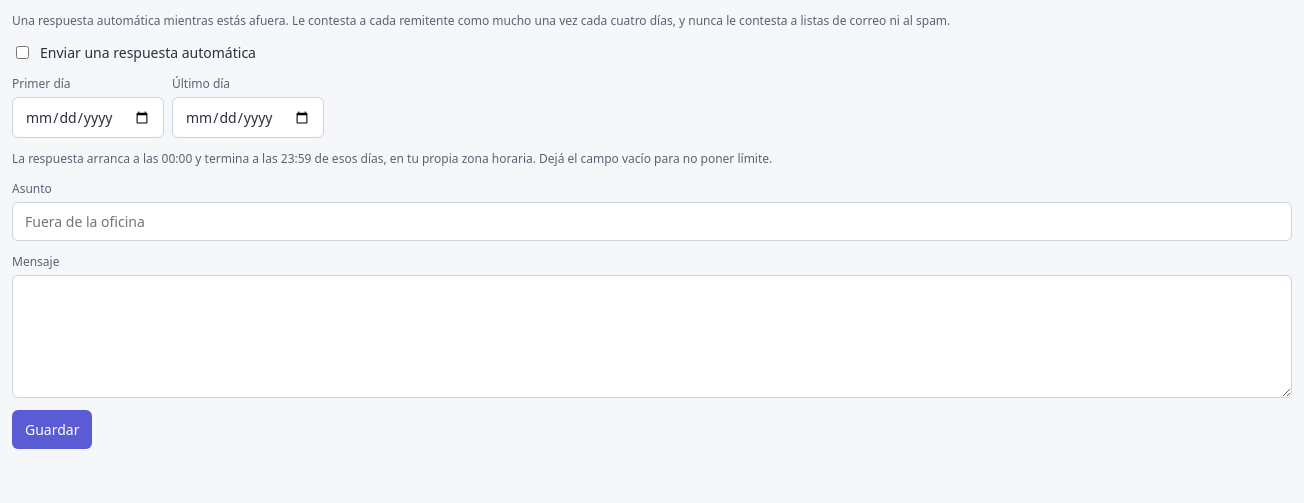
Test case: validation, before the round trip › refuses an ENABLED responder with neither subject nor body (§8)
Click the switch labelled "Enviar una respuesta automática". click: (22, 52)
box: [16, 46, 29, 59]
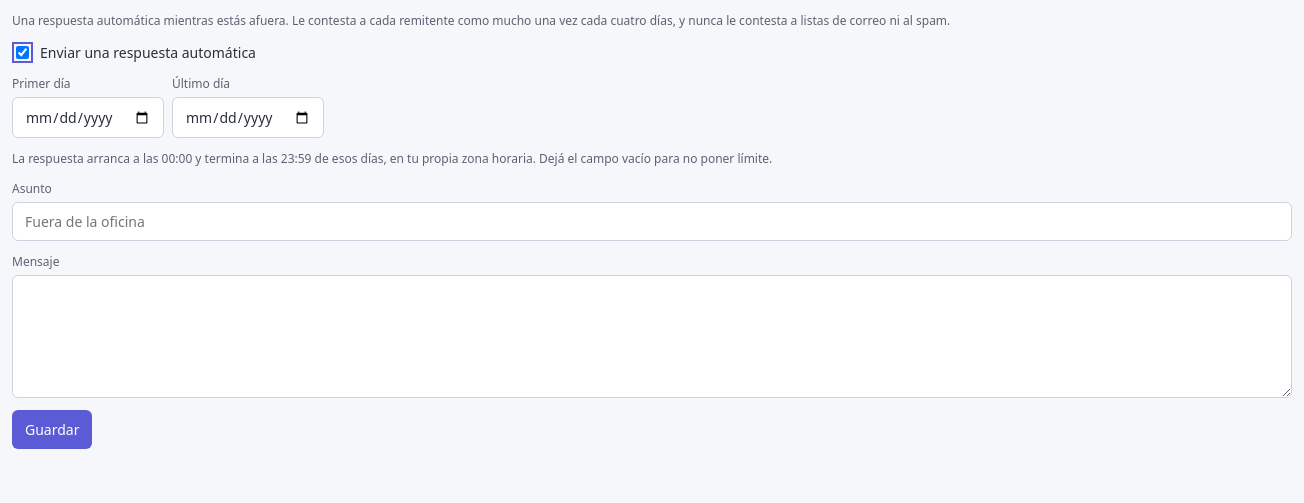
Click the button "Guardar". click: (52, 430)
box: [12, 410, 92, 449]
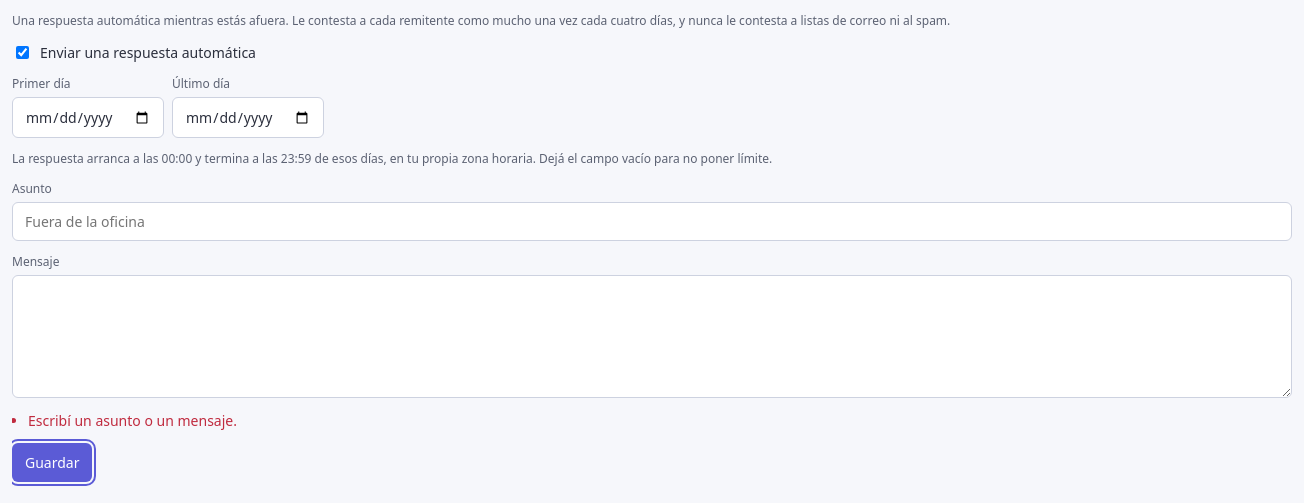
expect the message reads "Escribí un asunto o un mensaje.": met, box [28, 411, 237, 430]
